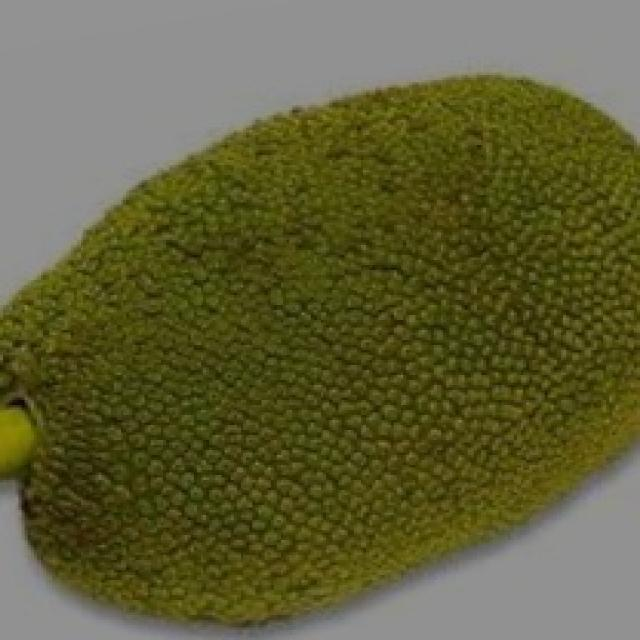Fruit: (0, 295, 366, 640), (240, 52, 640, 352)
